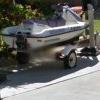Boat: (1, 9, 93, 71)
